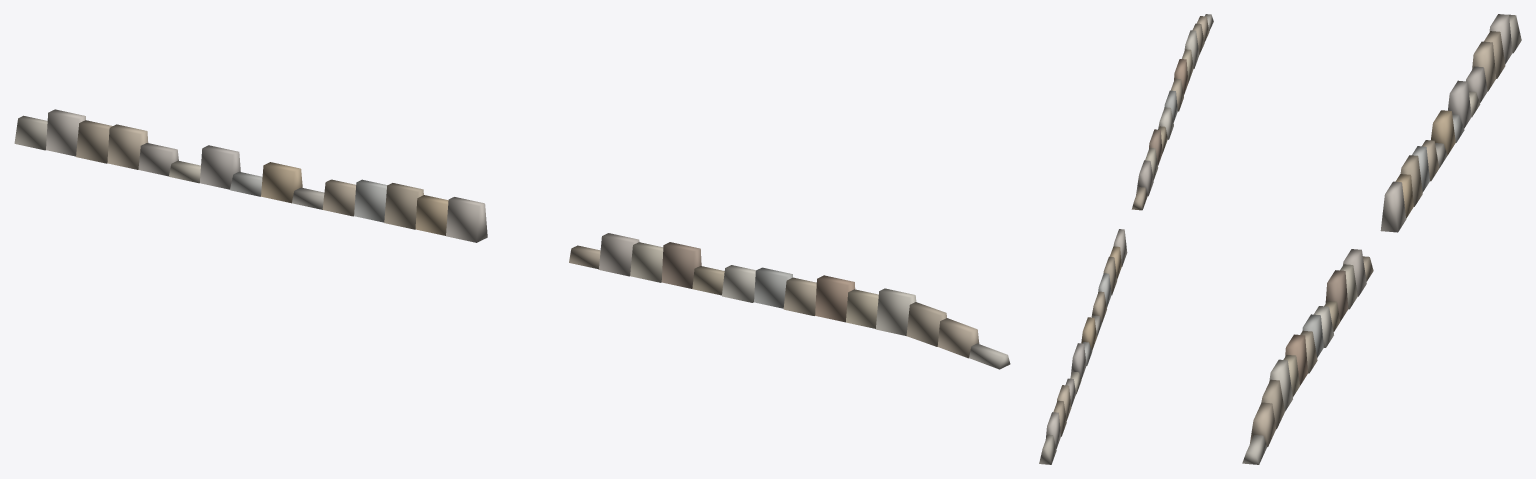
The model's file is farm_-34_-27_collision.glb.
3 views of the same model, side by side, from view 1: azimuth 30°, elevation 25°; view 2: azimuth 150°, elevation 25°; view 3: azimuth 330°, elevation 25° (orthographic). The views are drawn at different scales.
Visible parts, largest first — view 1: geometry_0; view 2: geometry_0; view 3: geometry_0.
Boxes of the visible parts, left/top/right/bottom form: geometry_0: left=14, top=109, right=1010, bottom=369; geometry_0: left=1039, top=14, right=1213, bottom=464; geometry_0: left=1242, top=14, right=1521, bottom=464.
Bounding box in the file's own units: 16.79 × 7.23 × 47.16.
